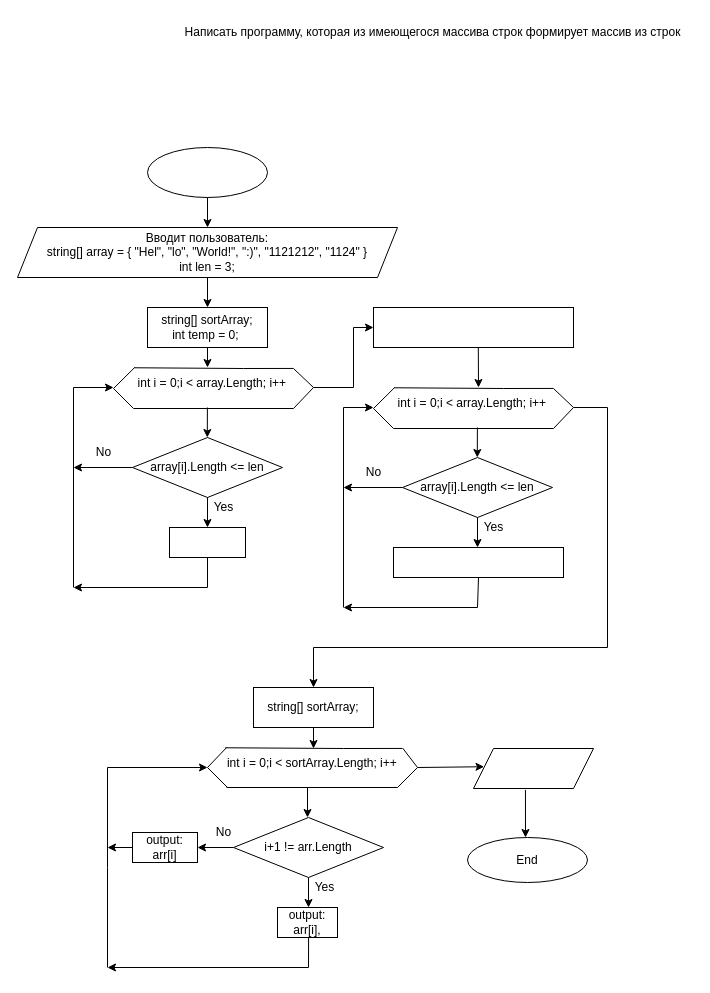
Some shapes in this 710 by 993 pixel diagram are drawn without their labels. The centre of each missing label's shape, as x and y in pixels:
output: sortArray: the point at 533,768
sortArray[temp++] = array[i]: the point at 478,562
Start: the point at 207,172
string[] sortArray = new string[temp]; int temp = 0;: the point at 473,327
temp++: the point at 207,542
